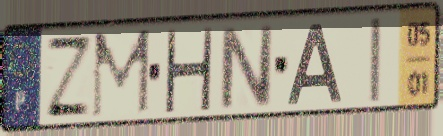A: (284, 21, 345, 108)
H: (161, 27, 216, 114)
I: (367, 14, 384, 106)
M: (88, 25, 153, 122)
N: (217, 22, 274, 113)
Z: (42, 35, 96, 120)
